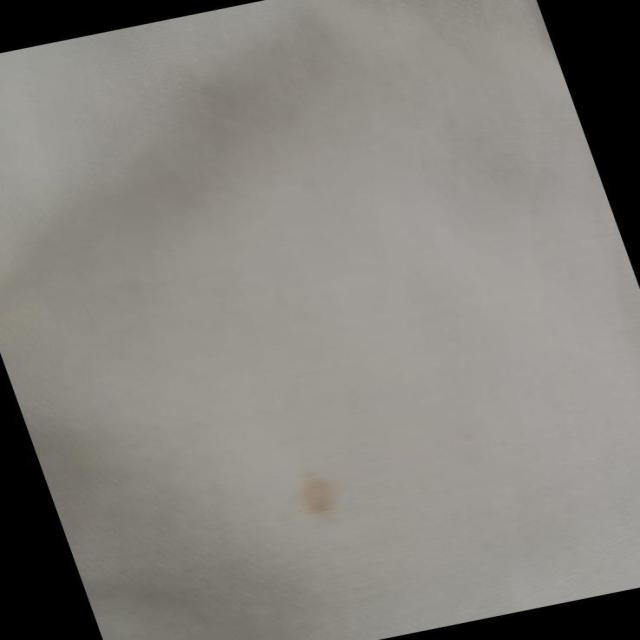stain: (271, 456, 368, 534)
